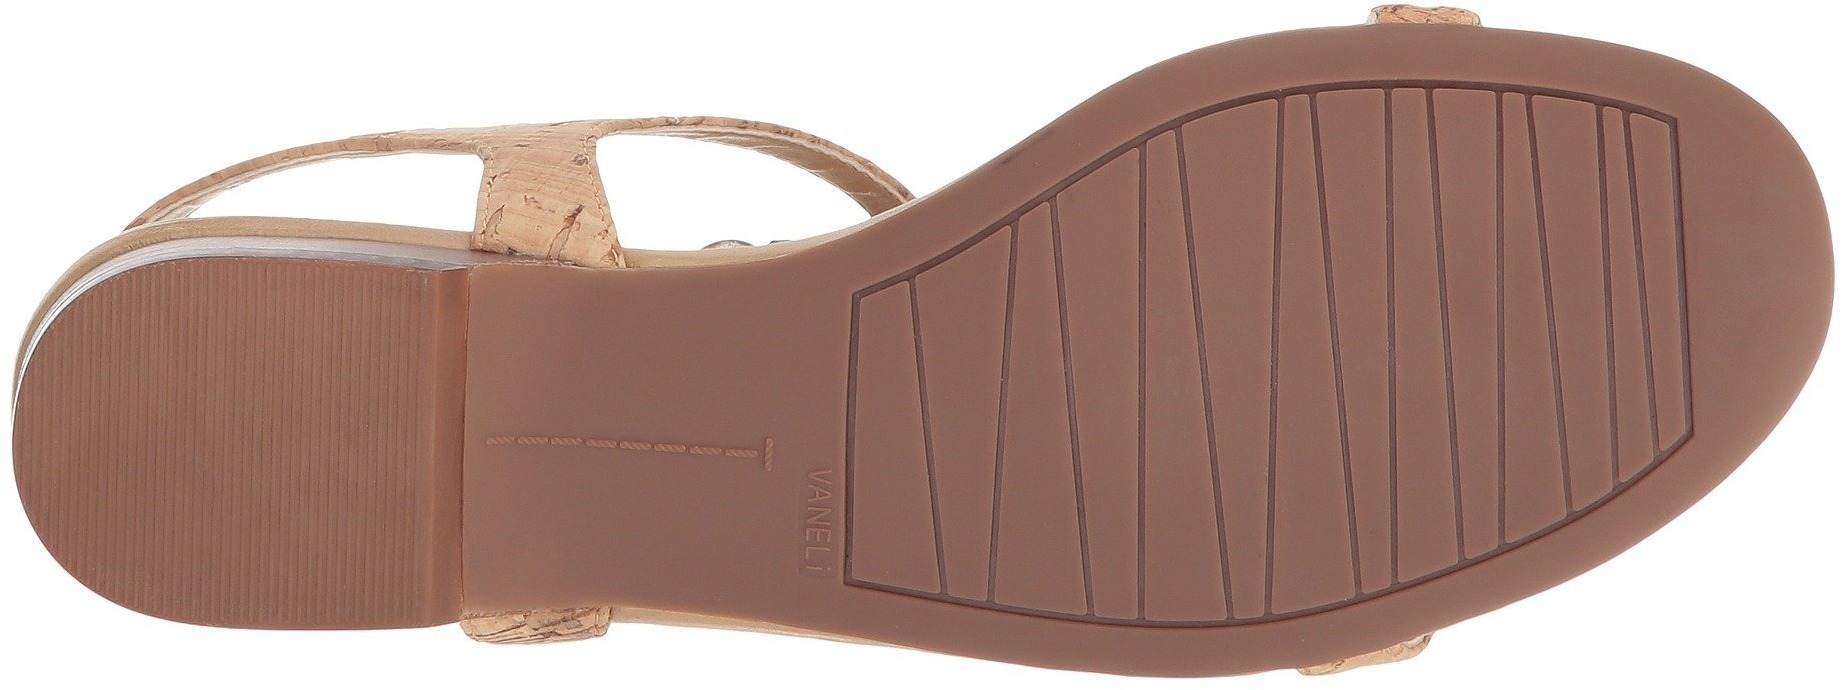exclude: (1340, 1, 1512, 36)
line: (96, 306, 406, 585), (1368, 145, 1661, 426), (1081, 277, 1356, 556), (1139, 102, 1301, 241)
other: (1192, 119, 1275, 215), (1066, 192, 1135, 274), (925, 280, 997, 356)
